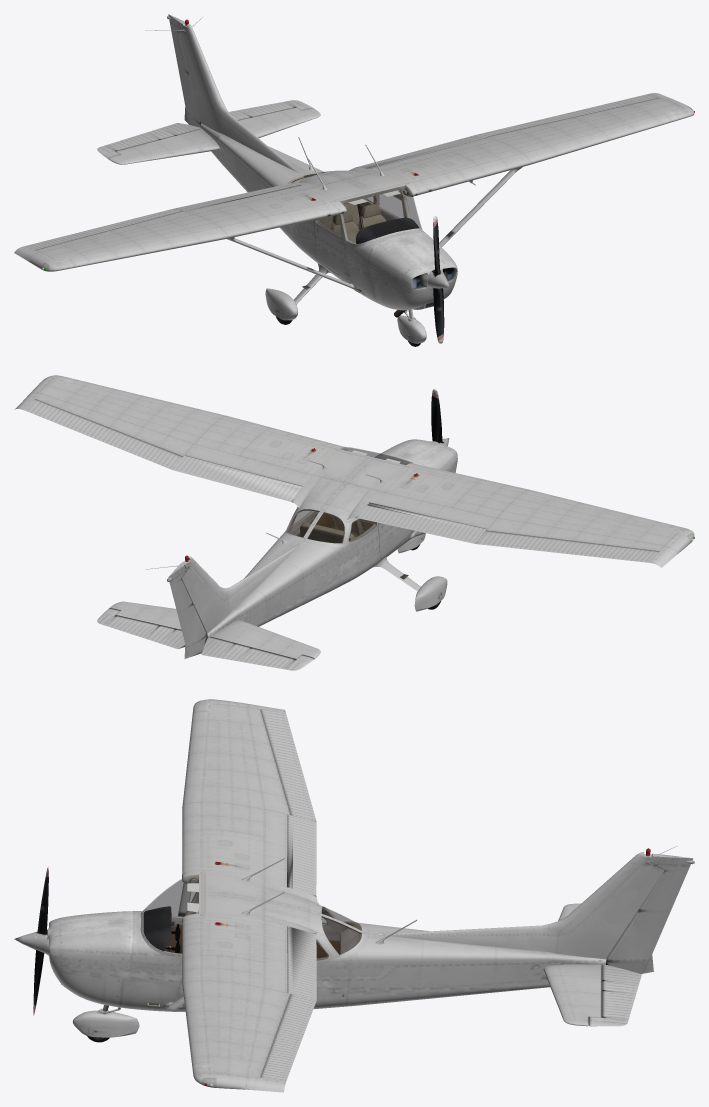
3 views of the same model, one above another, from view 1: azimuth 30°, elevation 25°; view 2: azimuth 150°, elevation 25°; view 3: azimuth 270°, elevation 25° (orthographic). The views are drawn at different scales.
Visible parts, largest first — view 1: Cessna_Exterior_Body_MAT_0, Cessna_Exterior_Body_MAT_0.002, Cessna_Exterior_Body_MAT_0.004, Cessna_Exterior_Glass_MAT_0, Cessna_Exterior_Body_MAT_0.007, Cessna_Exterior_Body_MAT_0.018, Cessna_Exterior_Body_MAT_0.011, Cessna_Interior_Interior_Body_MAT_0, Cessna_Exterior_Body_MAT_0.010, Cessna_Exterior_Body_MAT_0.008, Cessna_Interior_Seats_MAT_0, Cessna_Exterior_Body_MAT_0.012 (+10 smaller); view 2: Cessna_Exterior_Body_MAT_0.002, Cessna_Exterior_Body_MAT_0.004, Cessna_Exterior_Body_MAT_0, Cessna_Exterior_Body_MAT_0.018, Cessna_Exterior_Body_MAT_0.007, Cessna_Exterior_Body_MAT_0.014, Cessna_Exterior_Body_MAT_0.015, Cessna_Exterior_Body_MAT_0.016, Cessna_Exterior_Body_MAT_0.017, Cessna_Exterior_Body_MAT_0.011, Cessna_Exterior_Glass_MAT_0, Cessna_Exterior_Body_MAT_0.008 (+7 smaller); view 3: Cessna_Exterior_Body_MAT_0, Cessna_Exterior_Body_MAT_0.004, Cessna_Exterior_Body_MAT_0.002, Cessna_Exterior_Body_MAT_0.018, Cessna_Exterior_Body_MAT_0.007, Cessna_Exterior_Body_MAT_0.008, Cessna_Exterior_Glass_MAT_0, Cessna_Interior_Interior_Body_MAT_0, Cessna_Exterior_Body_MAT_0.010, Cessna_Exterior_Body_MAT_0.015, Cessna_Exterior_Body_MAT_0.014, Cessna_Exterior_Body_MAT_0.017 (+4 smaller).
Part boxes in pixels (<box>): Cessna_Exterior_Body_MAT_0: <box>281,167,457,317</box>; Cessna_Exterior_Body_MAT_0.002: <box>370,93,694,197</box>; Cessna_Exterior_Body_MAT_0.004: <box>14,185,346,271</box>; Cessna_Exterior_Glass_MAT_0: <box>290,171,421,243</box>; Cessna_Exterior_Body_MAT_0.007: <box>145,16,298,172</box>; Cessna_Exterior_Body_MAT_0.018: <box>200,123,325,229</box>; Cessna_Exterior_Body_MAT_0.011: <box>108,129,219,164</box>; Cessna_Interior_Interior_Body_MAT_0: <box>288,170,419,244</box>; Cessna_Exterior_Body_MAT_0.010: <box>238,107,320,138</box>; Cessna_Exterior_Body_MAT_0.008: <box>167,14,201,127</box>; Cessna_Interior_Seats_MAT_0: <box>318,202,386,242</box>; Cessna_Exterior_Body_MAT_0.012: <box>97,123,201,158</box>; Cessna_Exterior_Body_MAT_0.002: <box>14,375,344,485</box>; Cessna_Exterior_Body_MAT_0.004: <box>369,463,694,567</box>; Cessna_Exterior_Body_MAT_0: <box>280,439,457,589</box>; Cessna_Exterior_Body_MAT_0.018: <box>206,535,335,639</box>; Cessna_Exterior_Body_MAT_0.007: <box>145,544,298,633</box>; Cessna_Exterior_Body_MAT_0.014: <box>24,399,182,469</box>; Cessna_Exterior_Body_MAT_0.015: <box>475,530,659,562</box>; Cessna_Exterior_Body_MAT_0.016: <box>173,455,302,501</box>; Cessna_Exterior_Body_MAT_0.017: <box>357,502,486,543</box>; Cessna_Exterior_Body_MAT_0.011: <box>210,620,320,659</box>; Cessna_Exterior_Glass_MAT_0: <box>286,447,412,542</box>; Cessna_Exterior_Body_MAT_0.008: <box>167,564,206,658</box>; Cessna_Exterior_Body_MAT_0: <box>46,874,364,1011</box>; Cessna_Exterior_Body_MAT_0.004: <box>182,699,290,886</box>; Cessna_Exterior_Body_MAT_0.002: <box>182,913,290,1092</box>; Cessna_Exterior_Body_MAT_0.018: <box>355,923,606,1005</box>; Cessna_Exterior_Body_MAT_0.007: <box>378,846,677,959</box>; Cessna_Exterior_Body_MAT_0.008: <box>606,854,694,973</box>; Cessna_Exterior_Glass_MAT_0: <box>143,875,361,959</box>; Cessna_Interior_Interior_Body_MAT_0: <box>142,874,362,960</box>; Cessna_Exterior_Body_MAT_0.010: <box>543,964,601,1026</box>; Cessna_Exterior_Body_MAT_0.015: <box>260,709,316,821</box>; Cessna_Exterior_Body_MAT_0.014: <box>260,994,316,1081</box>; Cessna_Exterior_Body_MAT_0.017: <box>287,814,316,895</box>.
Size of the model in its own units: 12.6 by 2.96 by 9.44.
Materials: 16 (10 with a texture image).
